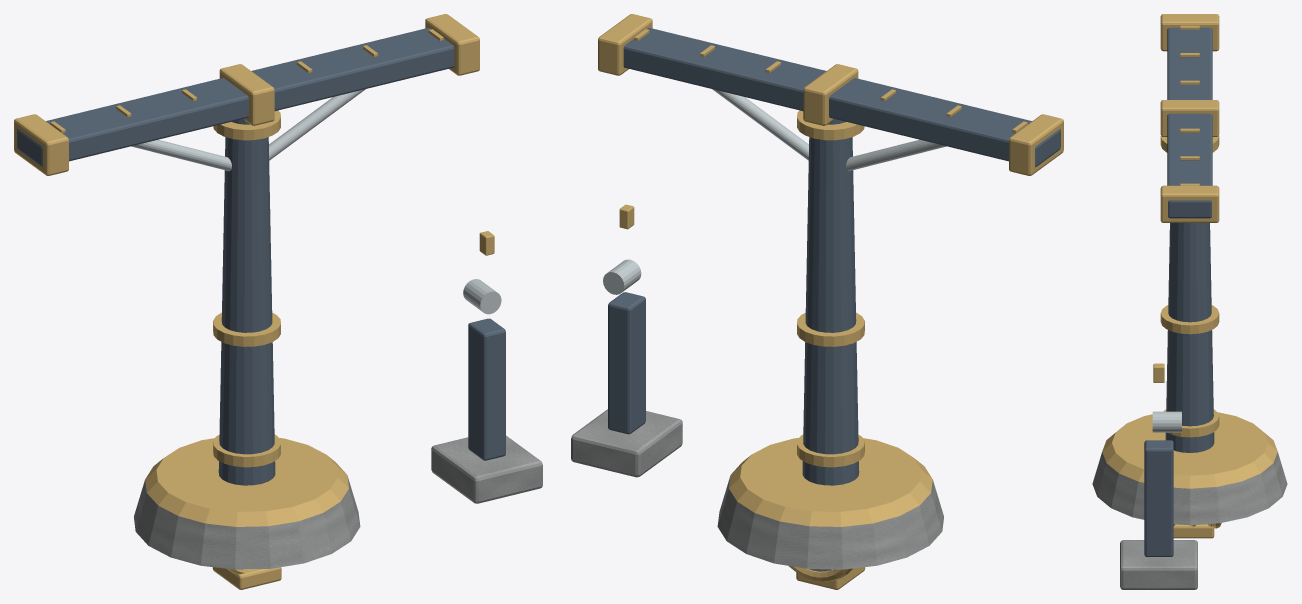
Rendered from twin-shadow-v01.glb.
3 views of the same model, side by side, from view 1: azimuth 30°, elevation 25°; view 2: azimuth 150°, elevation 25°; view 3: azimuth 270°, elevation 25° (orthographic). The views are drawn at different scales.
Parts seen in each view (by area): view 1: LampStand Twin dark, LampStand Twin brass, LampStand Twin stone, LampStand Twin steel, LampHousing Twin brass; view 2: LampStand Twin dark, LampStand Twin brass, LampStand Twin stone, LampStand Twin steel; view 3: LampStand Twin dark, LampStand Twin brass, LampStand Twin stone, LampStand Twin steel, LampHousing Twin brass.
Part boxes in pixels (bbox=[...]): LampStand Twin dark: bbox=[17, 27, 505, 485]; LampStand Twin brass: bbox=[14, 14, 494, 526]; LampStand Twin stone: bbox=[134, 435, 542, 569]; LampStand Twin steel: bbox=[131, 89, 501, 314]; LampHousing Twin brass: bbox=[212, 567, 281, 589]; LampStand Twin dark: bbox=[608, 27, 1060, 485]; LampStand Twin brass: bbox=[598, 14, 1063, 526]; LampStand Twin stone: bbox=[571, 409, 943, 569]; LampStand Twin steel: bbox=[603, 89, 946, 294]; LampStand Twin dark: bbox=[1144, 27, 1214, 556]; LampStand Twin brass: bbox=[1102, 14, 1277, 488]; LampStand Twin stone: bbox=[1092, 452, 1287, 589]; LampStand Twin steel: bbox=[1152, 411, 1181, 432]; LampHousing Twin brass: bbox=[1173, 524, 1214, 538].
Size of the model in its own units: 2.89 by 2.89 by 1.2.
4 materials, 1 textured.
